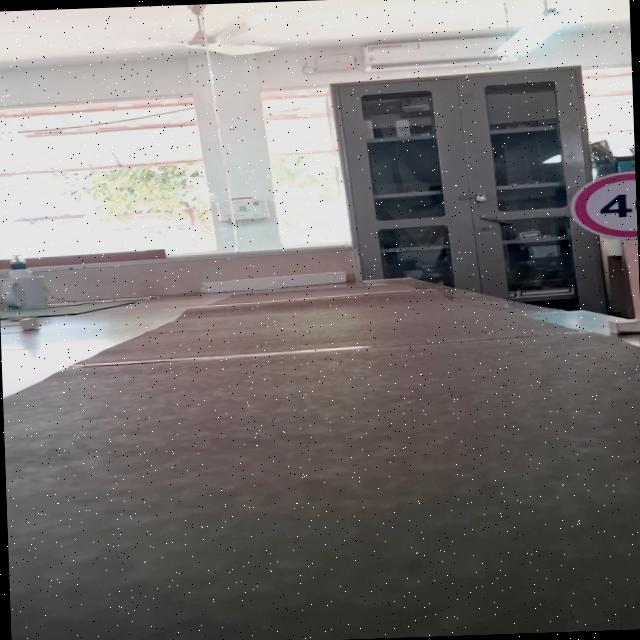Speed40: (565, 170, 637, 242)
